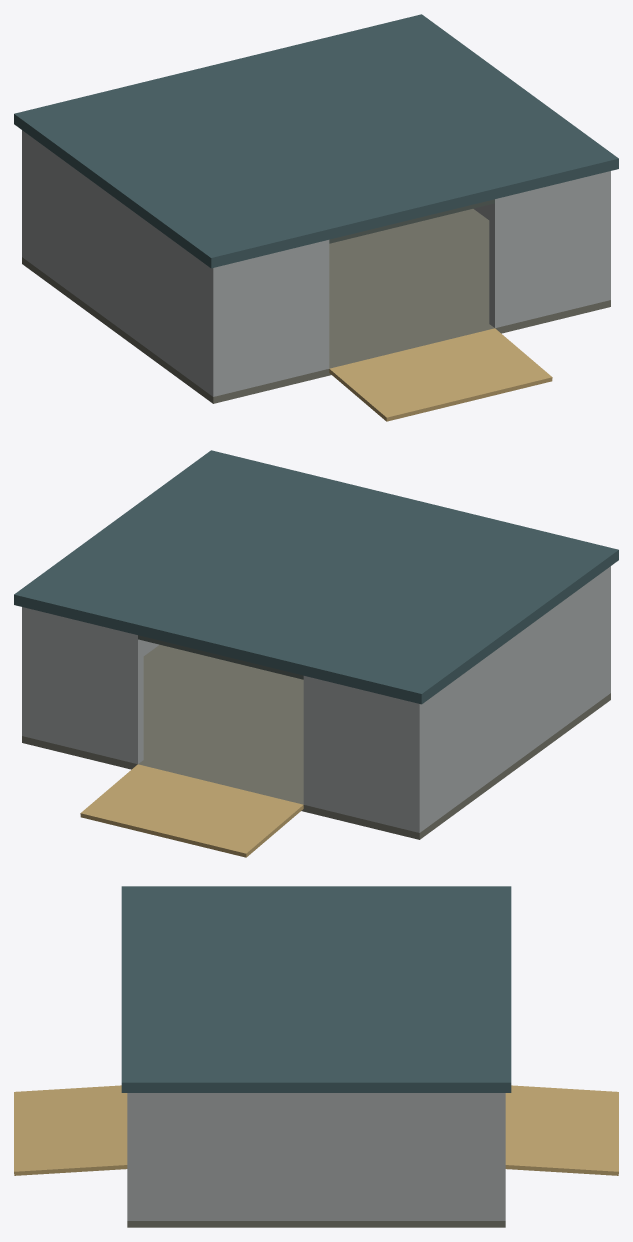
File: warehouse.glb
3 views of the same model, one above another, from view 1: azimuth 30°, elevation 25°; view 2: azimuth 150°, elevation 25°; view 3: azimuth 270°, elevation 25° (orthographic).
Visible parts, largest first — view 1: roof, wall_left, floor, wall_front_L, wall_front_R, ramp_front, wall_right, lintel_front; view 2: roof, wall_left, floor, wall_back_R, wall_back_L, ramp_back, wall_right, lintel_back, wall_front_L; view 3: roof, wall_right, ramp_back, ramp_front, floor, wall_front_R.
Part boxes in pixels (box(x1,y1,x2,y2)): roof: box(14, 14, 618, 268); wall_left: box(22, 130, 223, 396); floor: box(22, 209, 610, 403); wall_front_L: box(207, 240, 329, 396); wall_front_R: box(489, 172, 610, 328); ramp_front: box(329, 328, 552, 421); wall_right: box(473, 171, 610, 302); lintel_front: box(329, 199, 494, 243); roof: box(14, 450, 618, 704); wall_left: box(409, 570, 610, 832); floor: box(22, 645, 610, 839); wall_back_R: box(22, 608, 143, 764); wall_back_L: box(303, 676, 422, 832); ramp_back: box(80, 764, 303, 857); wall_right: box(22, 607, 159, 738); lintel_back: box(138, 635, 303, 679); wall_front_L: box(605, 566, 610, 696); roof: box(121, 886, 511, 1092); wall_right: box(127, 1093, 505, 1220); ramp_back: box(505, 1085, 618, 1175); ramp_front: box(14, 1085, 127, 1175); floor: box(127, 1221, 505, 1227); wall_front_R: box(127, 1093, 138, 1220).
Size of the model in its own units: 12.3 by 4.42 by 16.
